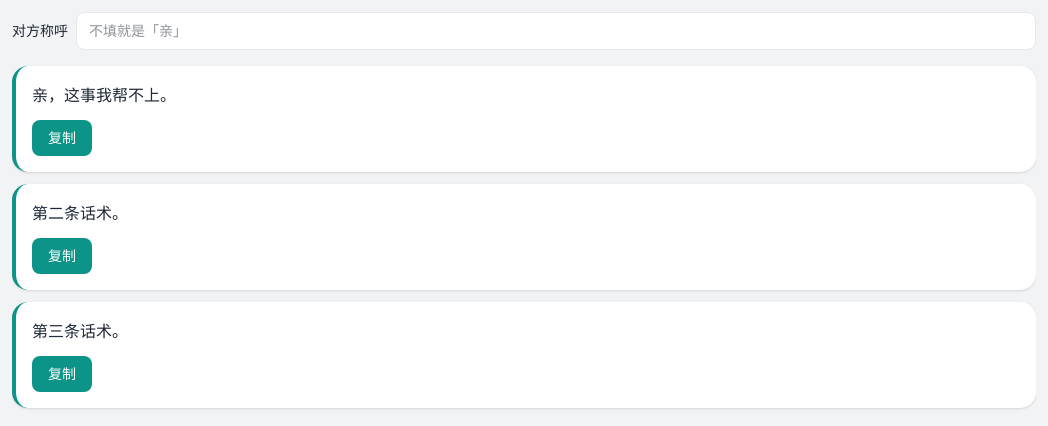
Test case: PhraseList › 复制成功：按钮变「已复制」且上报 copy
The image size is (1048, 426).
What coordinates should you click on to do the following:
click the button "复制" below "亲，这事我帮不上。"
I would click on:
 (62, 138)
Its box is [32, 120, 92, 156].
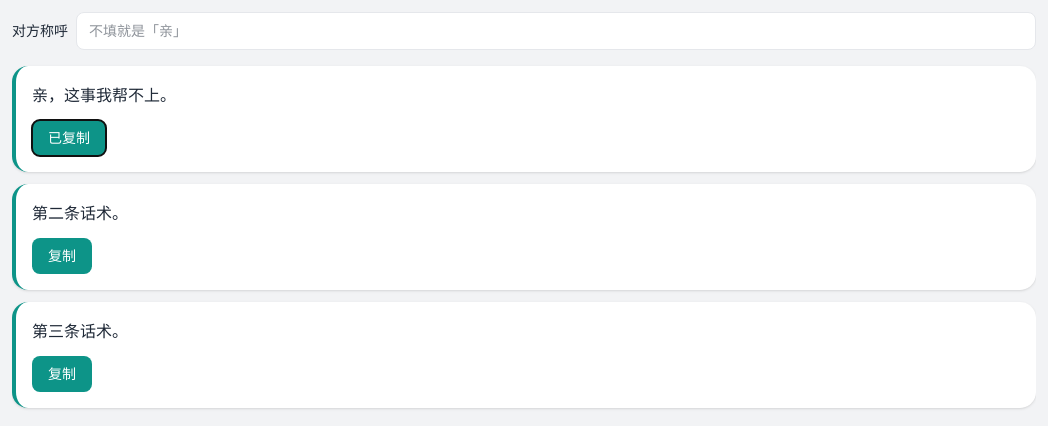
Check: the button "已复制" is shown, box [32, 120, 106, 156]
